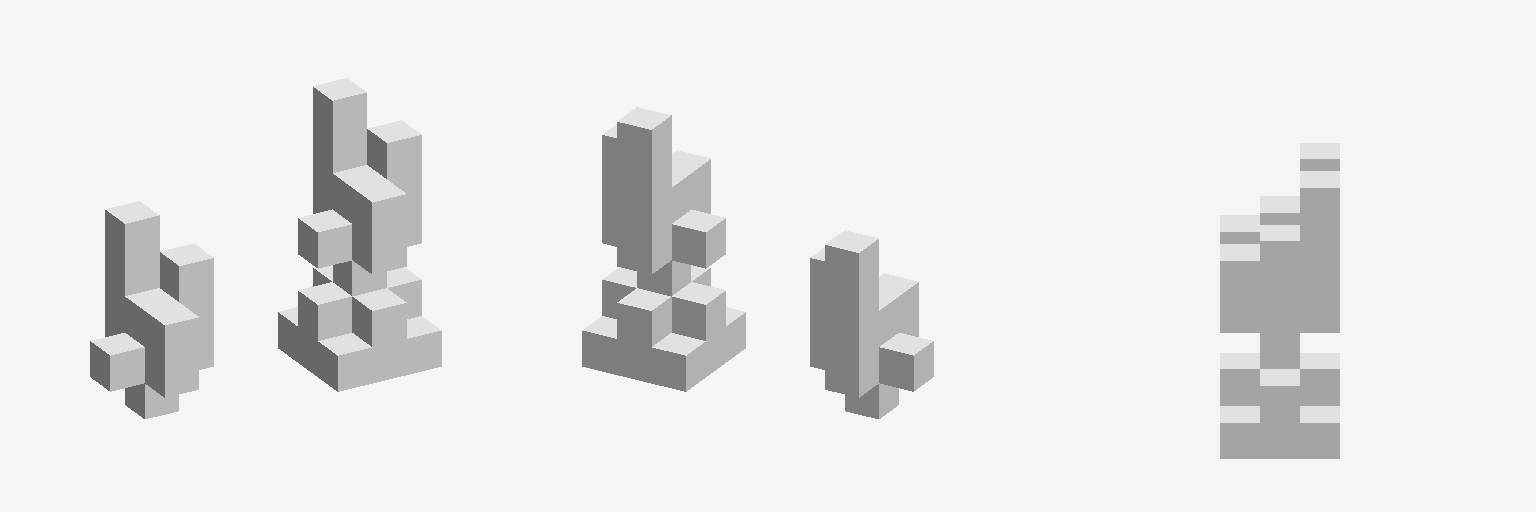
Rendered from EmptyBed-3.obj.
The picture shows the model from 3 angles: view 1: azimuth 30°, elevation 25°; view 2: azimuth 150°, elevation 25°; view 3: azimuth 270°, elevation 25°; orthographic projection.
Visible parts, largest first — view 1: object 1; view 2: object 1; view 3: object 1.
Boxes of the visible parts, x1,y1,x2,y2 form: object 1: [90, 78, 441, 418]; object 1: [582, 107, 933, 418]; object 1: [1220, 143, 1339, 458].
Bounding box in the file's own units: 0.9 × 0.7 × 0.3.